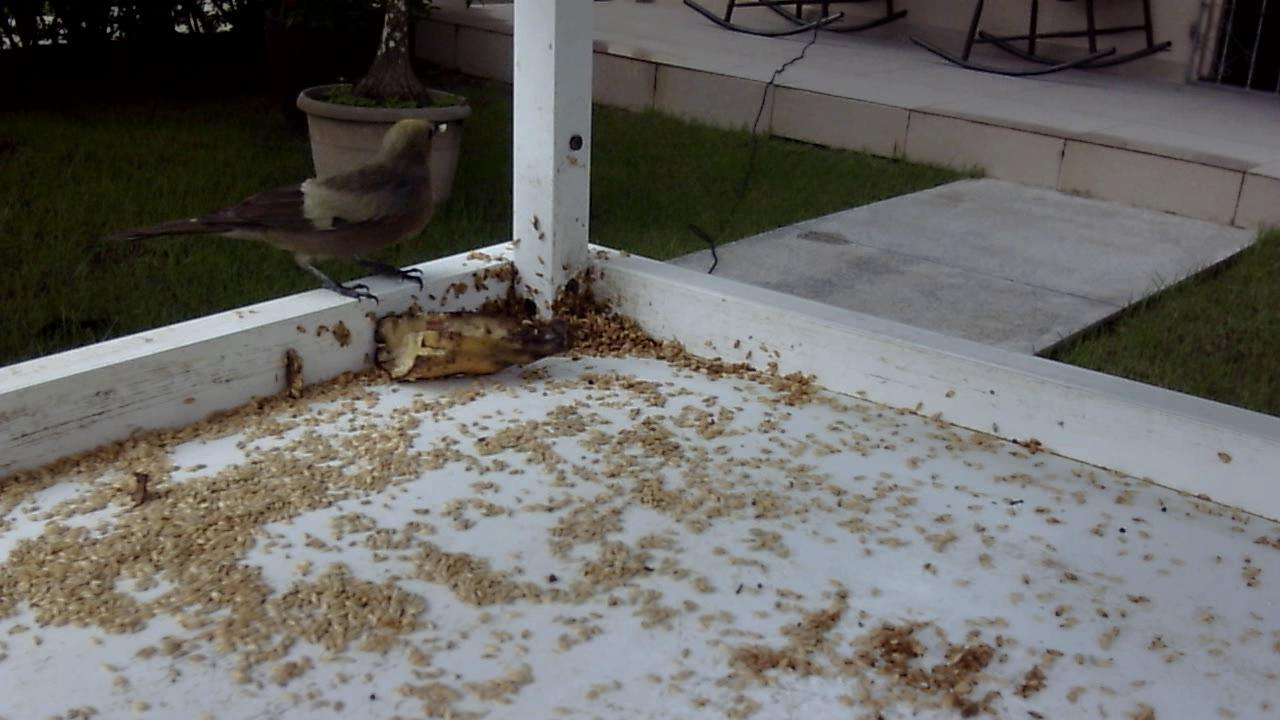sanhaco_do_coqueiro: (102, 107, 471, 319)
